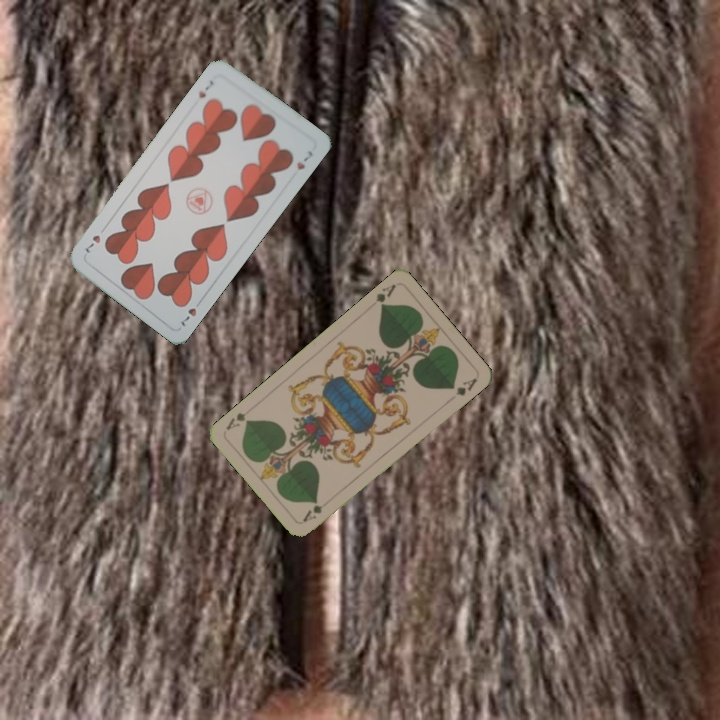GA: (299, 496, 334, 524), (371, 280, 399, 311)
H7: (177, 295, 205, 329), (194, 76, 217, 101)
